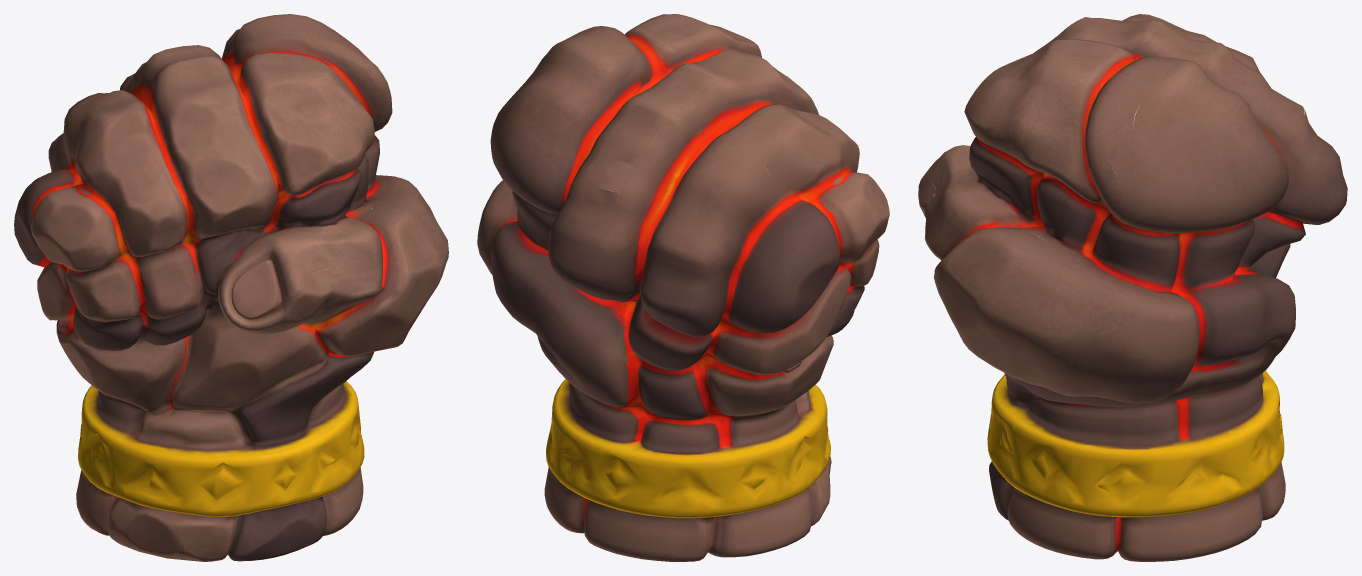
The model's file is kingpunch-stone.glb.
The picture shows the model from 3 angles, left to right: view 1: azimuth 30°, elevation 25°; view 2: azimuth 150°, elevation 25°; view 3: azimuth 270°, elevation 25°; orthographic projection. The views are drawn at different scales.
Visible parts, largest first — view 1: abe5bff7_fc04_43d1_85c3_fcbd1492402e; view 2: abe5bff7_fc04_43d1_85c3_fcbd1492402e; view 3: abe5bff7_fc04_43d1_85c3_fcbd1492402e.
Part boxes in pixels (x1,y1,x2,y2): abe5bff7_fc04_43d1_85c3_fcbd1492402e: [14, 14, 448, 561]; abe5bff7_fc04_43d1_85c3_fcbd1492402e: [477, 14, 889, 561]; abe5bff7_fc04_43d1_85c3_fcbd1492402e: [918, 14, 1347, 561].
Size of the model in its own units: 0.8823 by 0.9995 by 0.8159.
Materials: 1 (1 with a texture image).
